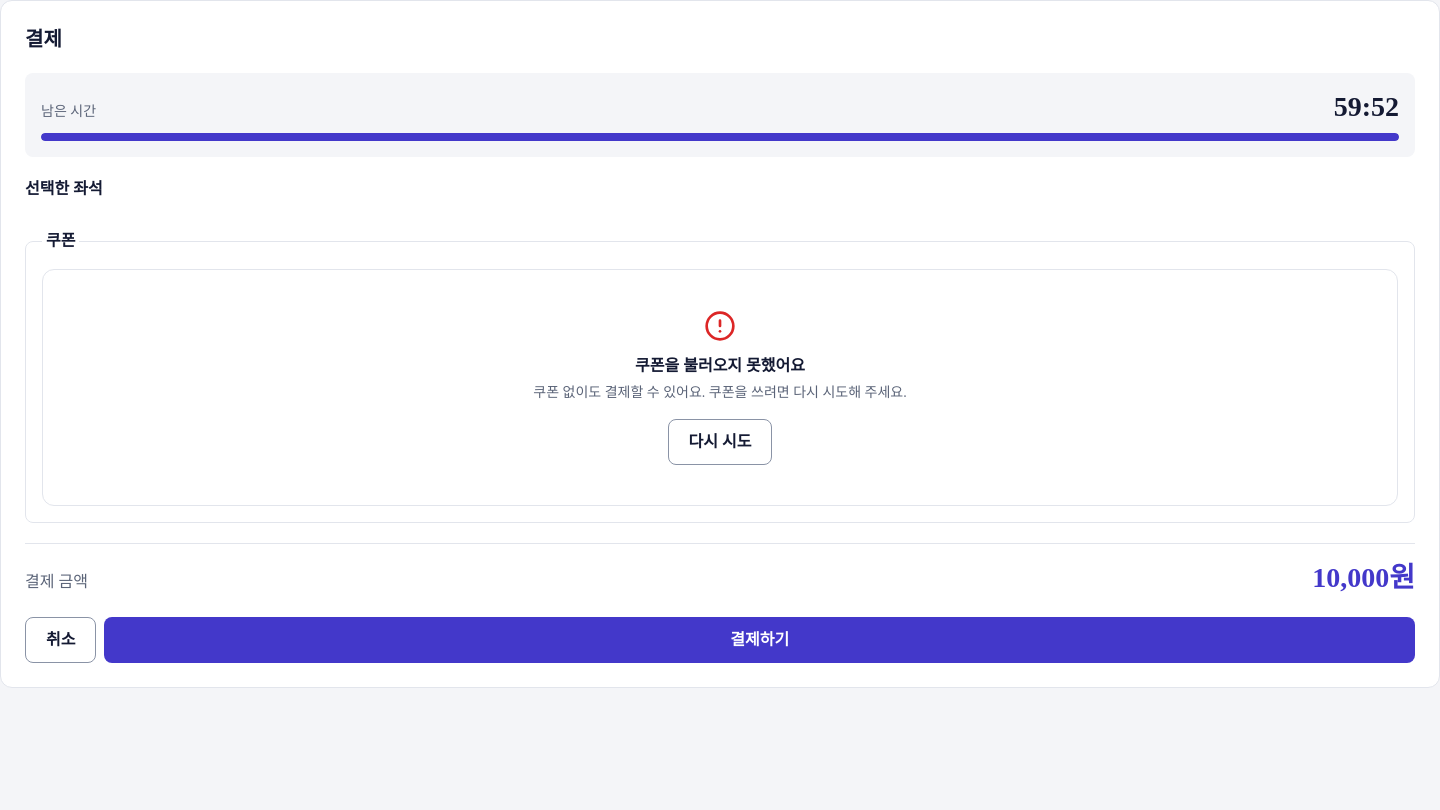
Scenario: 결제 화면 쿠폰 › 쿠폰 목록 3상태 › 조회에 실패하면 오류와 다시 시도를 보이고 다시 시도로 복구한다
Expected: the text "쿠폰을 불러오지 못했어요" is shown, [635,357,805,374]
What coordinates should you click on to do the following:
click the button "다시 시도"
I would click on:
 (720, 442)
Its box is [668,419,772,465].
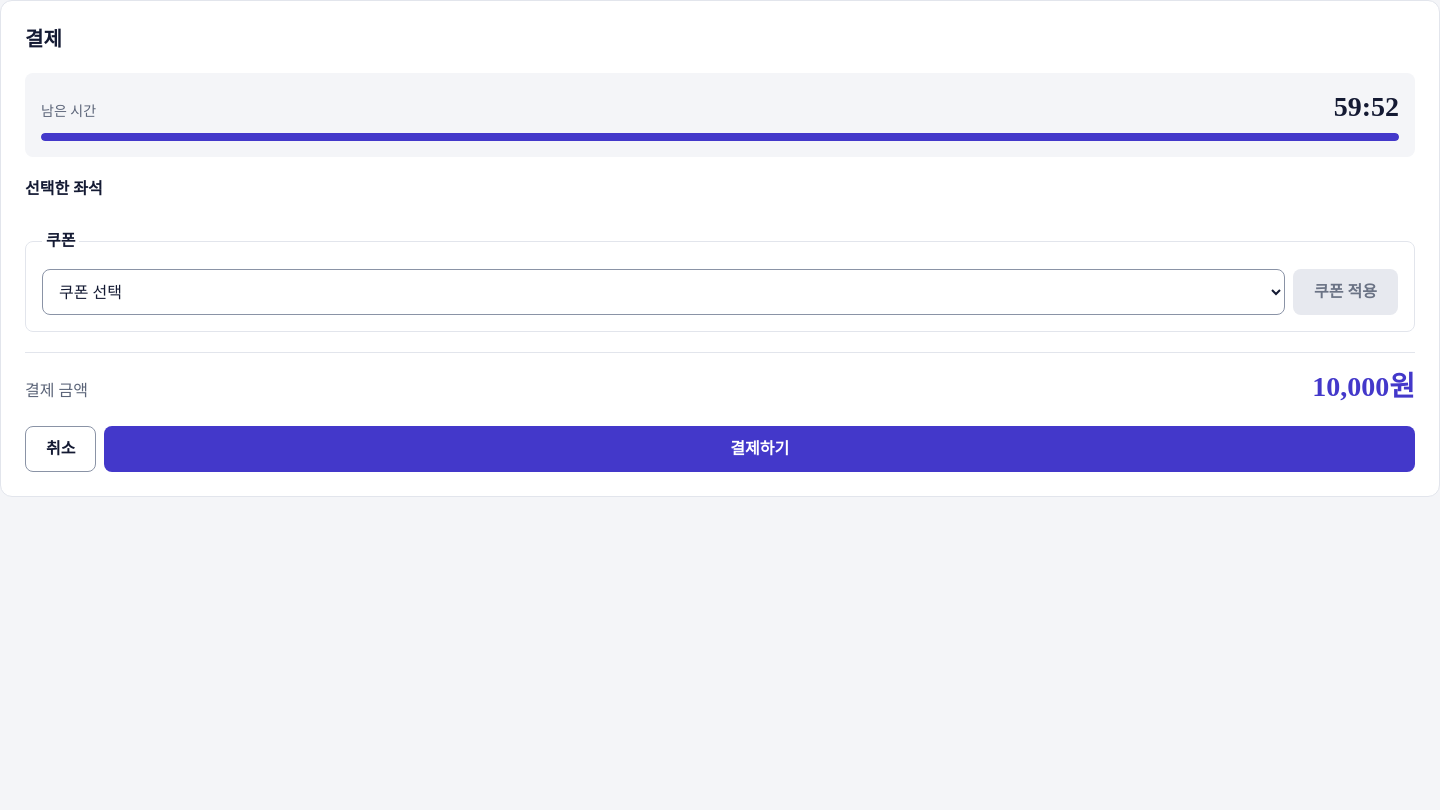
Result: the dropdown named "쿠폰 선택" is shown at [42,269,1285,315]
